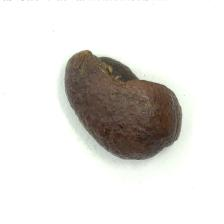NG: (86, 47, 173, 94)
